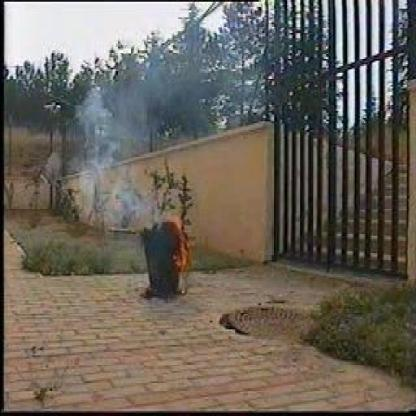-: (77, 96, 154, 216)
foggia-v2-map80-epoch100 - v1 4323: (171, 221, 194, 273)
